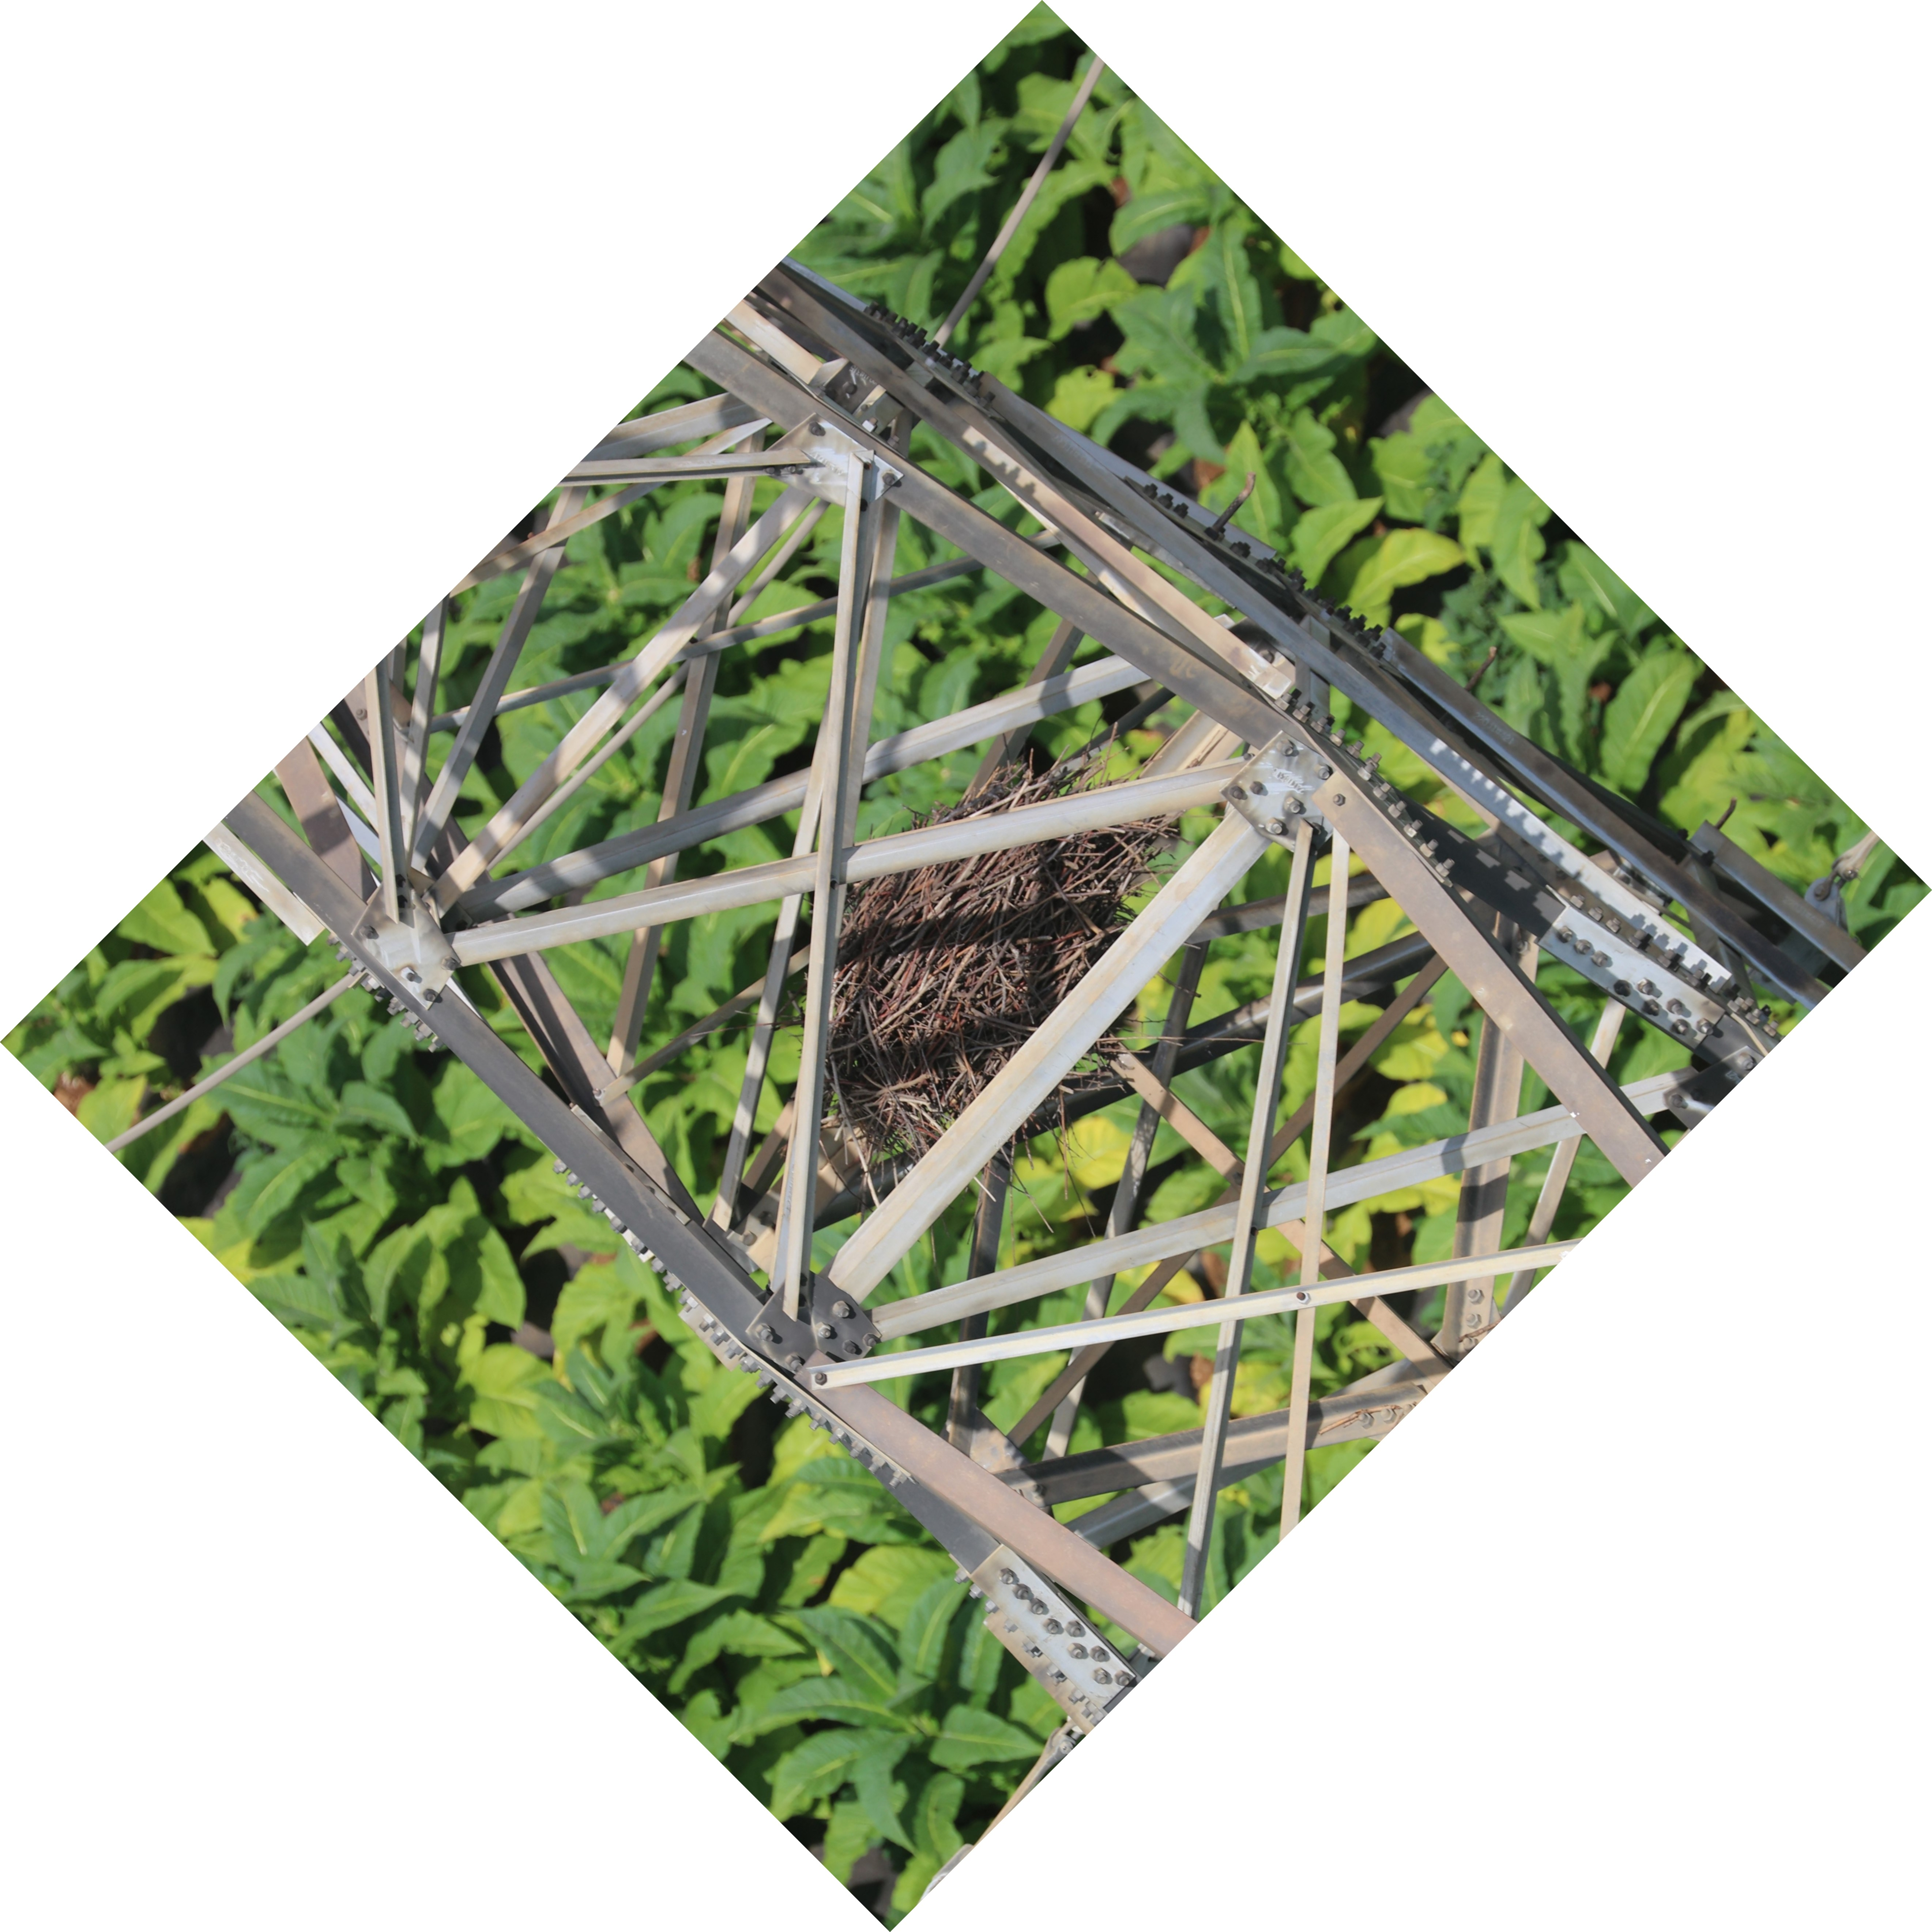niaowo: (734, 729, 1189, 1189)
